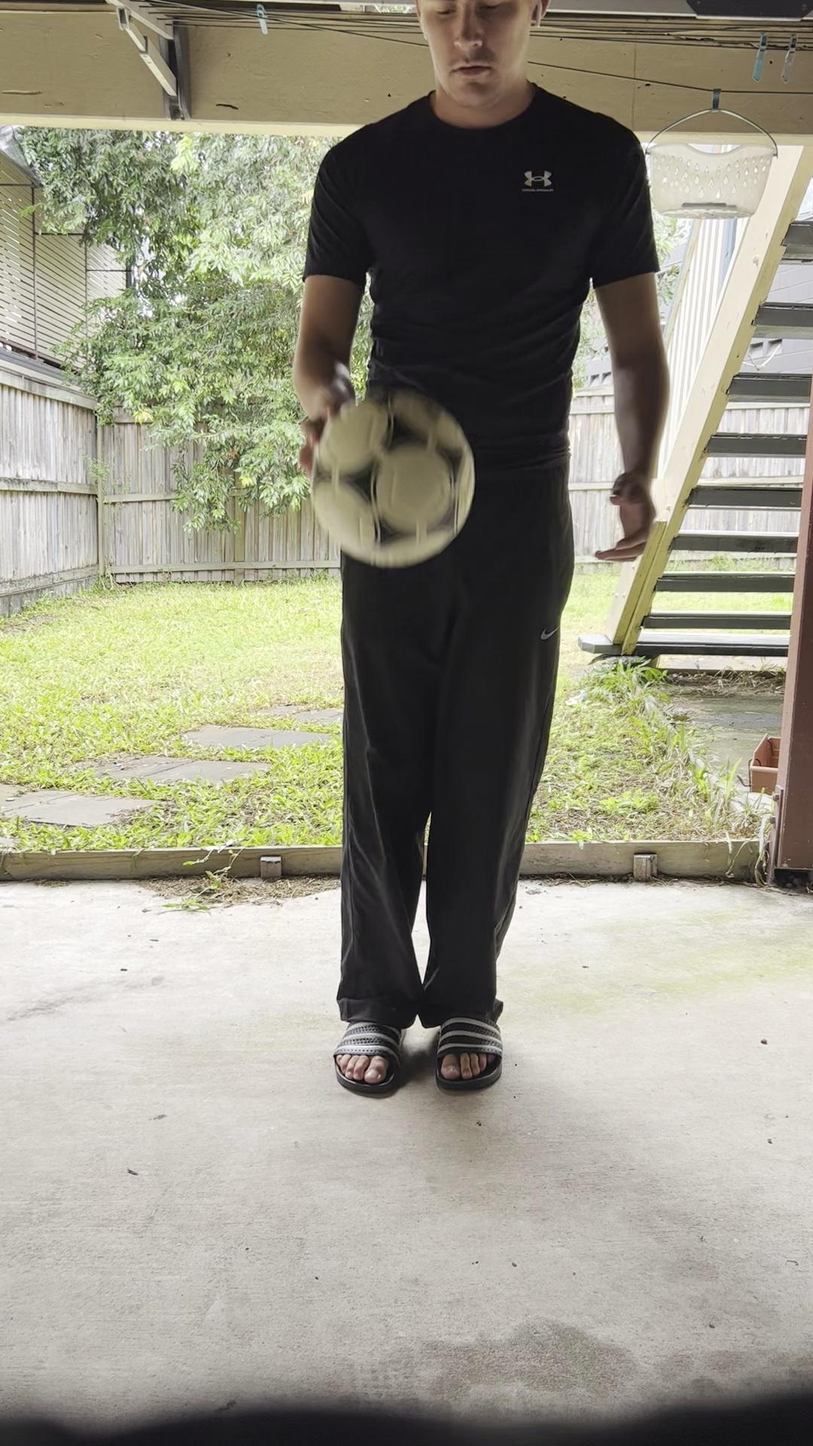ball: (310, 397, 473, 569)
foot: (327, 989, 403, 1101), (430, 982, 505, 1095)
person: (294, 1, 677, 1103)
